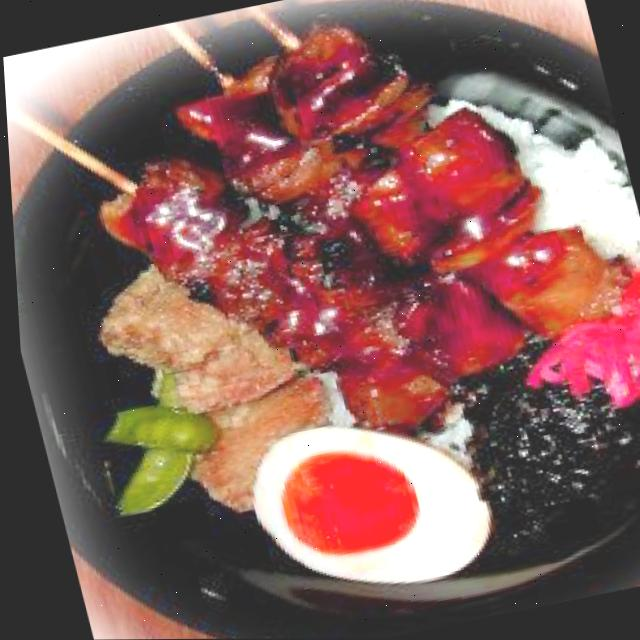烧串烤肉: (17, 0, 602, 478)
